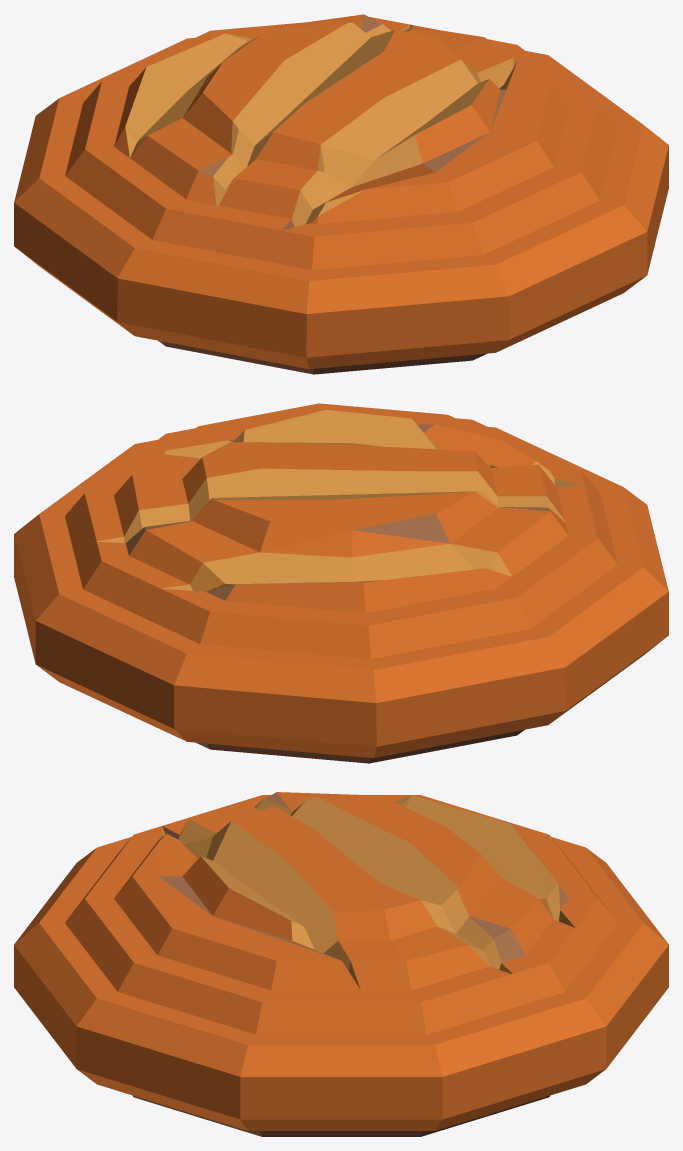
File: bread.fbx
3 renders of one model, top to bottom at view 1: azimuth 30°, elevation 25°; view 2: azimuth 150°, elevation 25°; view 3: azimuth 270°, elevation 25°, orthographic. The views are drawn at different scales.
Visible parts, largest first — view 1: Circle.005; view 2: Circle.005; view 3: Circle.005.
Part boxes in pixels (<box>): Circle.005: <box>14,14,668,374</box>; Circle.005: <box>14,403,668,763</box>; Circle.005: <box>14,792,668,1136</box>.
Size of the model in its own units: 40.54 by 12.99 by 42.61.
